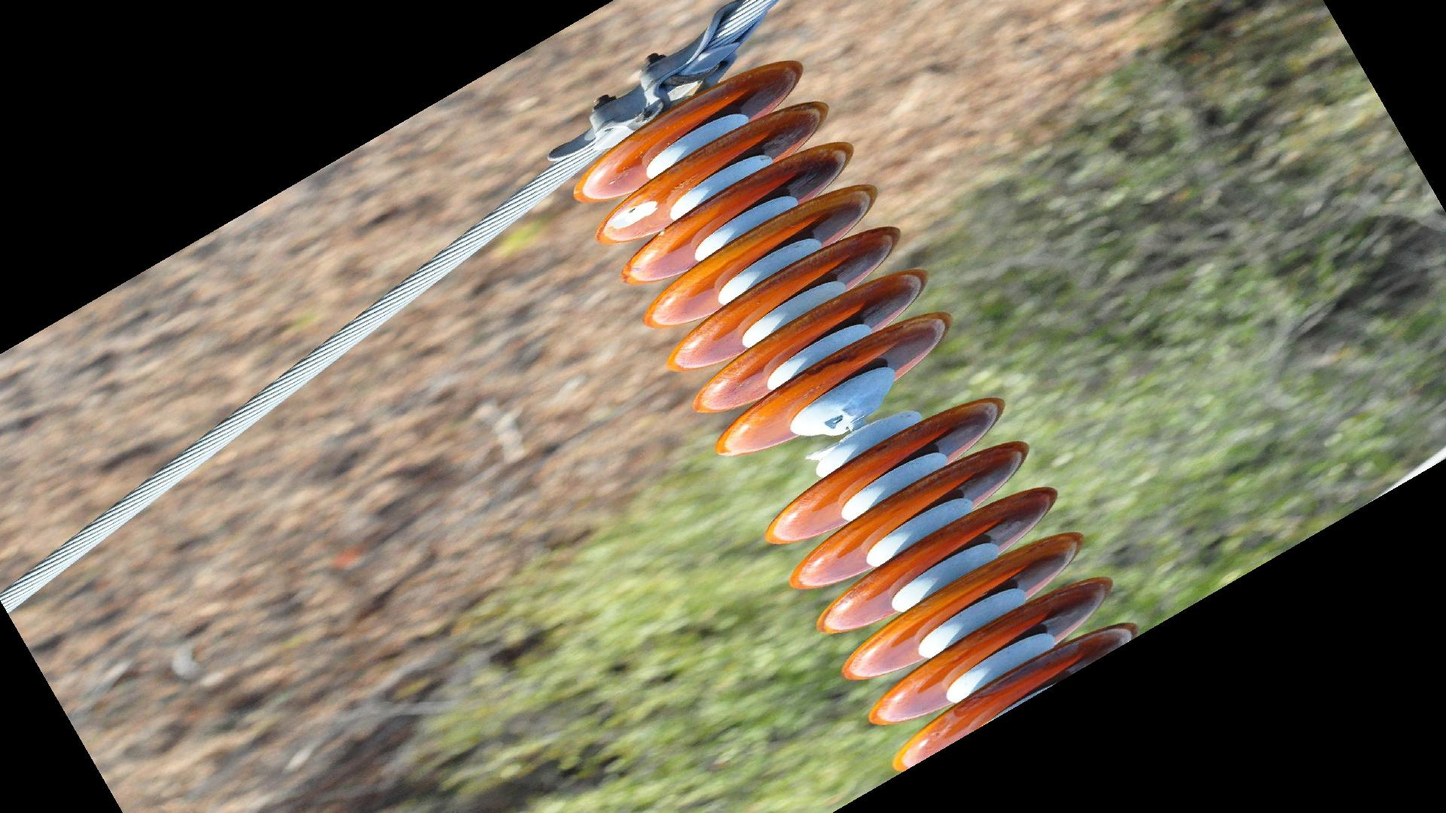insulator: (567, 53, 956, 459), (761, 388, 1143, 773)
insulator_breakage: (606, 196, 661, 233)
